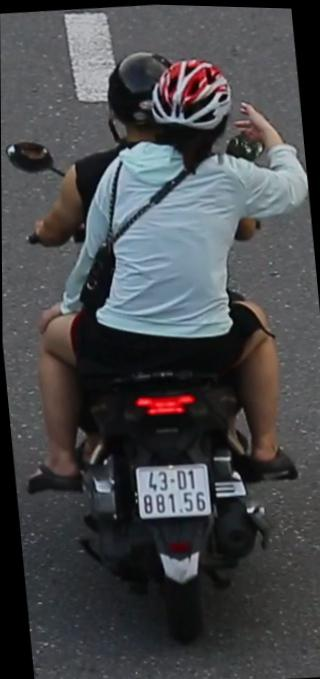LP: (132, 455, 216, 527)
helmet: (145, 44, 242, 176), (97, 42, 181, 157)
